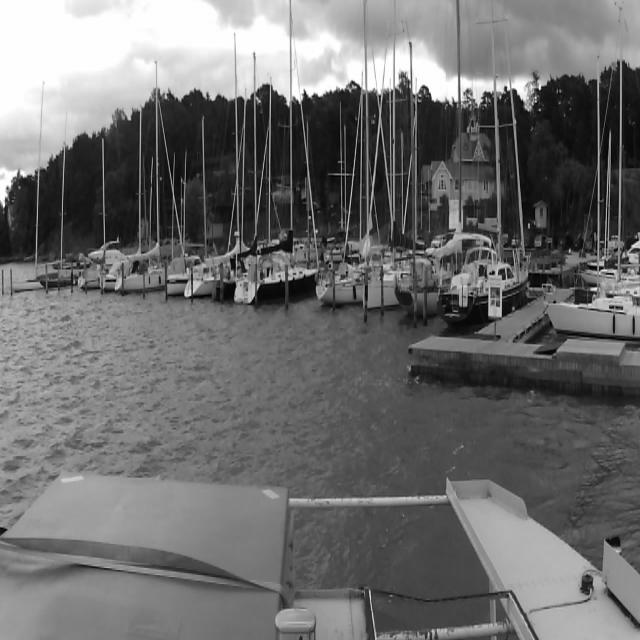ship: (434, 7, 528, 325), (547, 12, 636, 340), (312, 7, 390, 310), (229, 4, 309, 297), (392, 34, 457, 317), (114, 50, 178, 288), (12, 78, 76, 294), (96, 107, 150, 294), (182, 112, 226, 297)
